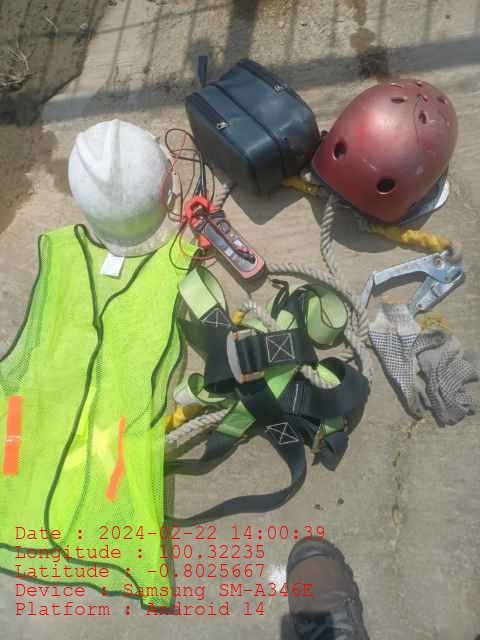HELM: (69, 119, 176, 252)
